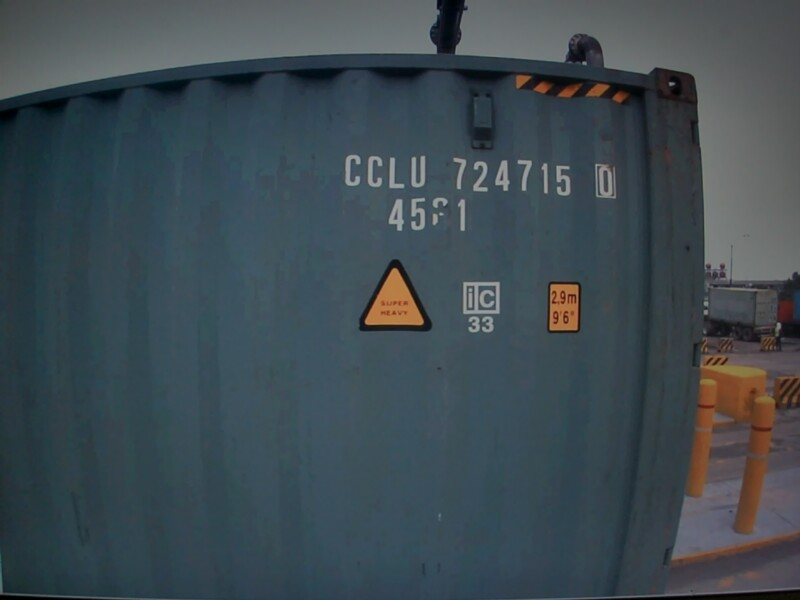container_no_door: (342, 36, 719, 600)
